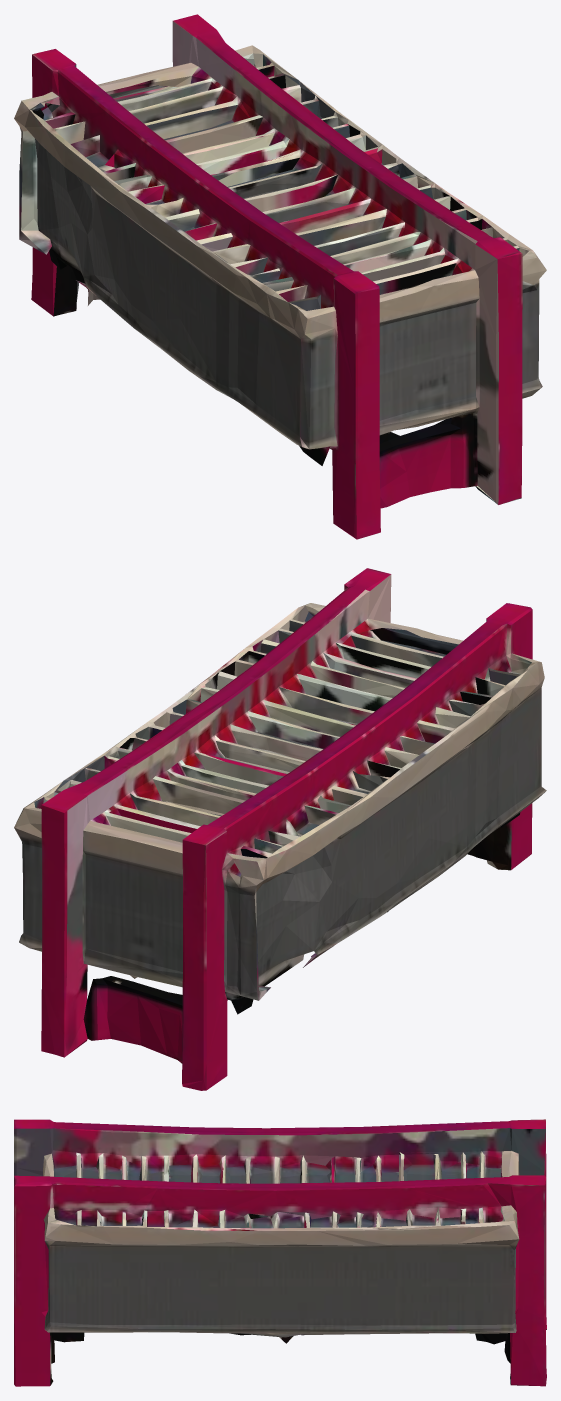
Rendered from pabellon_interlagos.glb.
3 views of the same model, one above another, from view 1: azimuth 30°, elevation 25°; view 2: azimuth 150°, elevation 25°; view 3: azimuth 270°, elevation 25° (orthographic). The views are drawn at different scales.
Visible parts, largest first — view 1: tmpcv39b85p.ply; view 2: tmpcv39b85p.ply; view 3: tmpcv39b85p.ply.
Boxes of the visible parts, box(x1,y1,x2,y2) form: tmpcv39b85p.ply: box(14, 14, 546, 539); tmpcv39b85p.ply: box(14, 568, 546, 1090); tmpcv39b85p.ply: box(14, 1119, 546, 1386).
Size of the model in its own units: 0.8754 by 0.8308 by 1.99.
Materials: 1 (1 with a texture image).
